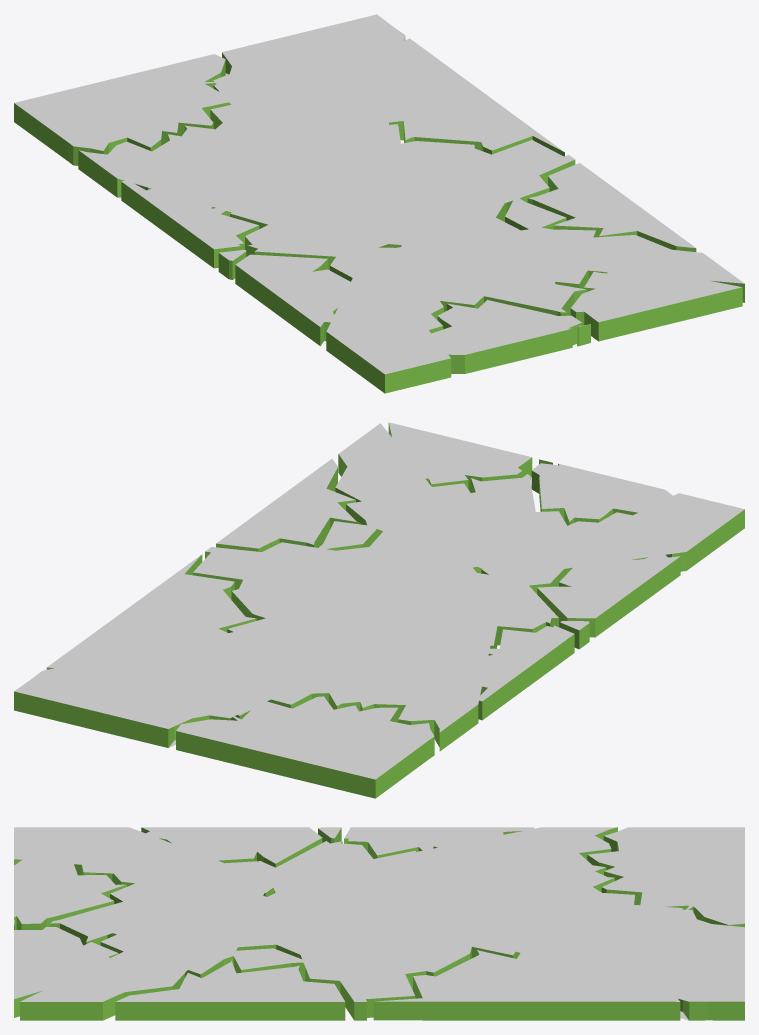
Rendered from Mapa nivel 4.fbx.
The picture shows the model from 3 angles, top to bottom: view 1: azimuth 30°, elevation 25°; view 2: azimuth 150°, elevation 25°; view 3: azimuth 270°, elevation 25°; orthographic projection.
Visible parts, largest first — view 1: Plane, Plane.001, Plane.007, Plane.010, Plane.008, Plane.002, Plane.012, Plane.004, Plane.005; view 2: Plane, Plane.001, Plane.007, Plane.002, Plane.012, Plane.008, Plane.010, Plane.004, Plane.005; view 3: Plane, Plane.007, Plane.001, Plane.012, Plane.005, Plane.008, Plane.002, Plane.010, Plane.004, Plane.003.
Part boxes in pixels (box(x1,y1,x2,y2)): Plane: box(78, 14, 744, 393); Plane.001: box(14, 54, 231, 165); Plane.007: box(367, 38, 564, 156); Plane.010: box(570, 267, 742, 341); Plane.008: box(431, 300, 581, 373); Plane.002: box(235, 254, 355, 346); Plane.012: box(527, 163, 696, 251); Plane.004: box(121, 181, 259, 268); Plane.005: box(351, 194, 522, 276); Plane: box(14, 423, 744, 751); Plane.001: box(176, 696, 434, 798); Plane.007: box(46, 554, 256, 669); Plane.002: box(537, 547, 680, 637); Plane.012: box(216, 459, 360, 551); Plane.008: box(531, 463, 672, 525); Plane.010: box(388, 422, 532, 490); Plane.004: box(453, 625, 574, 720); Plane.005: box(329, 523, 534, 601); Plane: box(14, 827, 744, 1020); Plane.007: box(373, 950, 680, 1020); Plane.001: box(587, 827, 744, 927); Plane.012: box(115, 960, 345, 1020); Plane.005: box(174, 884, 375, 958); Plane.008: box(14, 855, 126, 929); Plane.002: box(135, 827, 322, 867); Plane.010: box(14, 927, 126, 1017); Plane.004: box(344, 827, 533, 862); Plane.003: box(318, 827, 341, 843).
Bounding box in the file's own units: 179 × 9 × 316.
